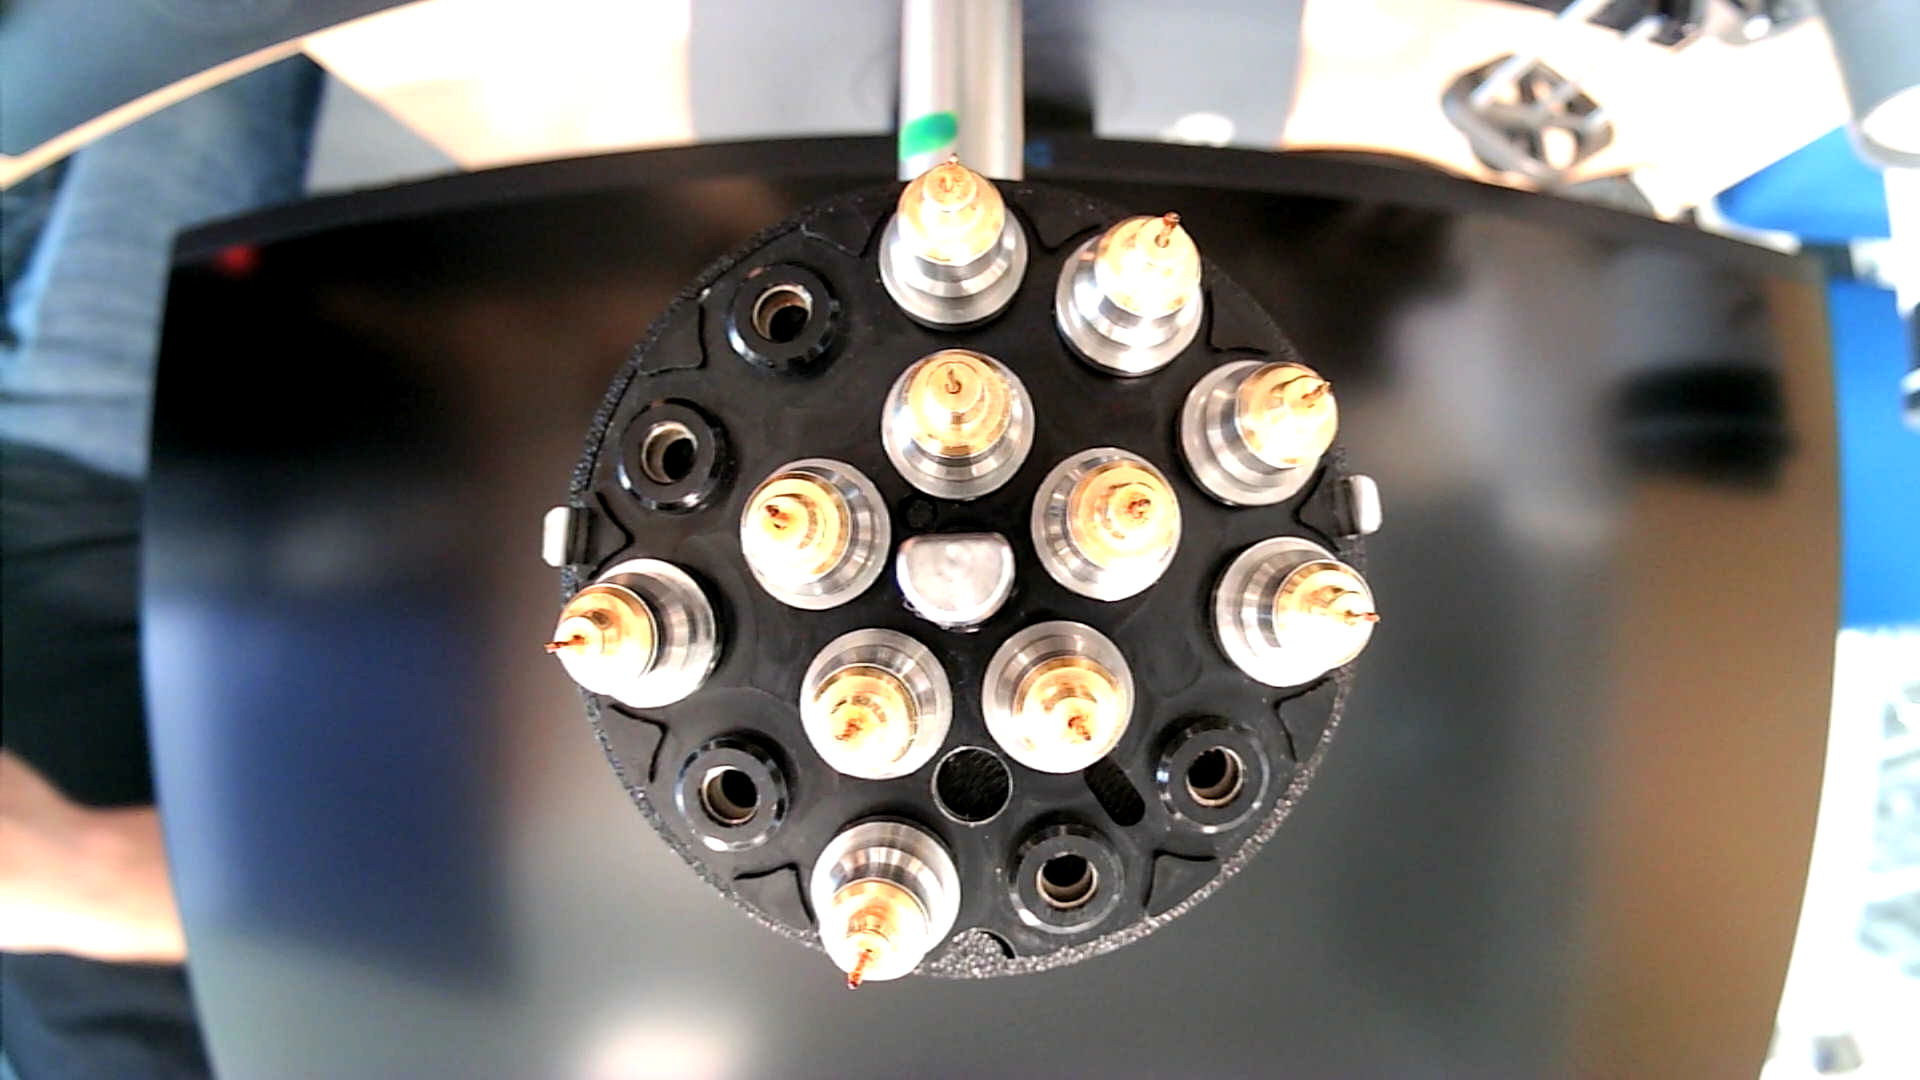empty: (996, 812, 1129, 939), (1149, 709, 1276, 839), (669, 728, 795, 857), (721, 257, 851, 382), (612, 397, 738, 522)
hole: (930, 740, 1015, 829)
pin: (541, 553, 725, 711), (807, 814, 963, 992), (1205, 533, 1377, 690), (880, 153, 1033, 328), (1055, 208, 1207, 380), (796, 625, 956, 782), (877, 345, 1036, 502), (1029, 446, 1183, 605), (1178, 359, 1337, 513), (977, 621, 1133, 778), (738, 455, 894, 611)
rod: (893, 529, 1021, 637)
